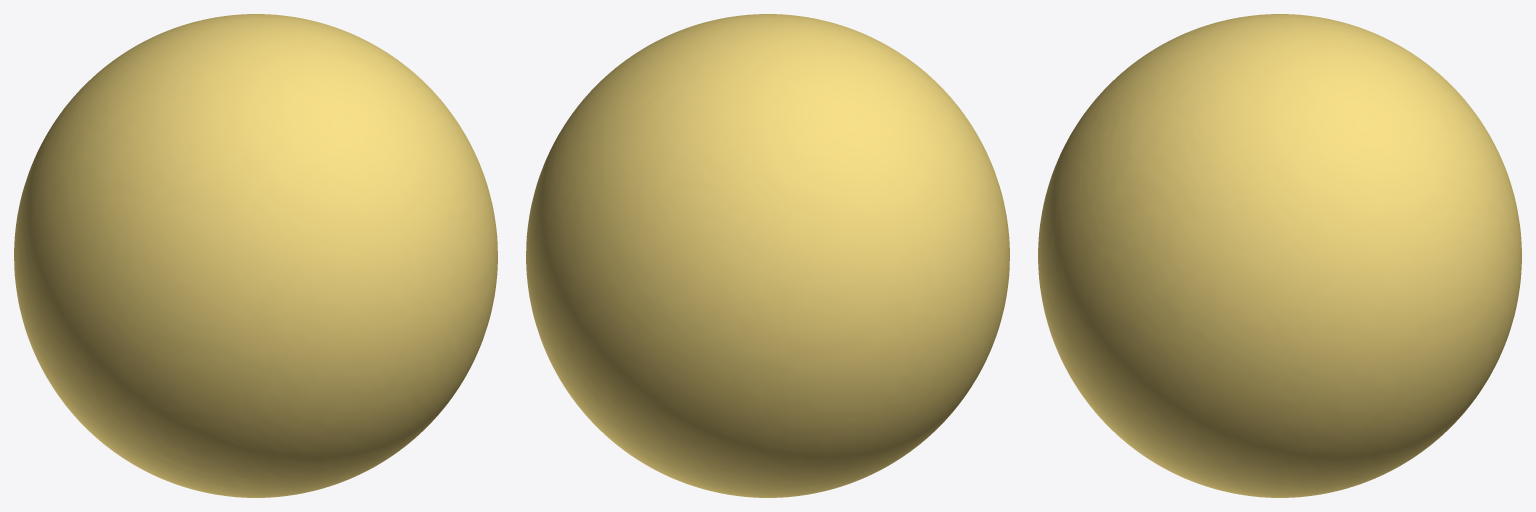
Rendered from atmosphere-layers.glb.
3 views of the same model, side by side, from view 1: azimuth 30°, elevation 25°; view 2: azimuth 150°, elevation 25°; view 3: azimuth 270°, elevation 25° (orthographic).
Parts seen in each view (by area): view 1: Atmo_Thermosphere; view 2: Atmo_Thermosphere; view 3: Atmo_Thermosphere.
Boxes of the visible parts, <box> form: Atmo_Thermosphere: <box>14,14,497,497</box>; Atmo_Thermosphere: <box>526,14,1009,497</box>; Atmo_Thermosphere: <box>1038,14,1521,497</box>.
Size of the model in its own units: 2.64 by 2.64 by 2.64.
